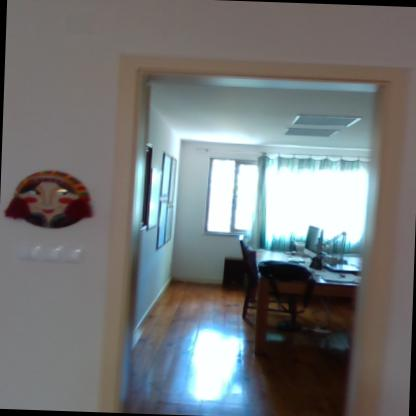open: (105, 41, 410, 416)
